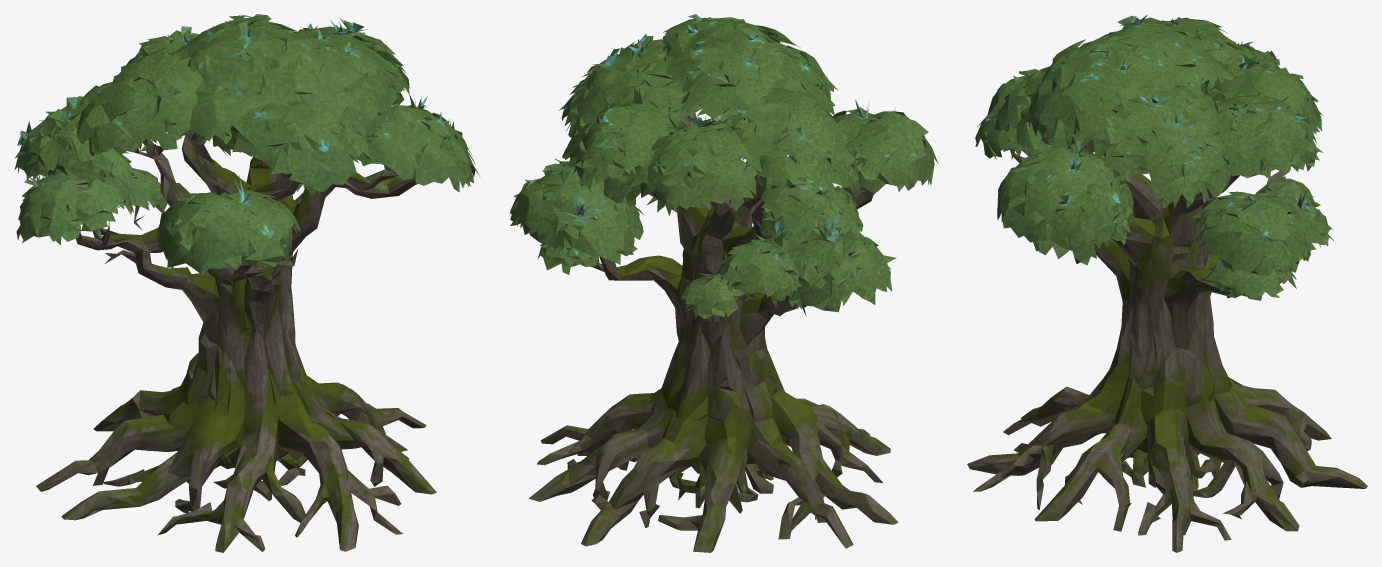
File: ArvoreAncestralEldoria.glb
The picture shows the model from 3 angles, left to right: view 1: azimuth 30°, elevation 25°; view 2: azimuth 150°, elevation 25°; view 3: azimuth 270°, elevation 25°; orthographic projection. The views are drawn at different scales.
Parts seen in each view (by area): view 1: output_unwrapped; view 2: output_unwrapped; view 3: output_unwrapped.
Boxes of the visible parts, x1,y1,x2,y2 form: output_unwrapped: [14, 14, 479, 552]; output_unwrapped: [509, 14, 938, 552]; output_unwrapped: [967, 14, 1367, 552].
Size of the model in its own units: 1.64 by 1.91 by 1.53.
1 material, 1 textured.
